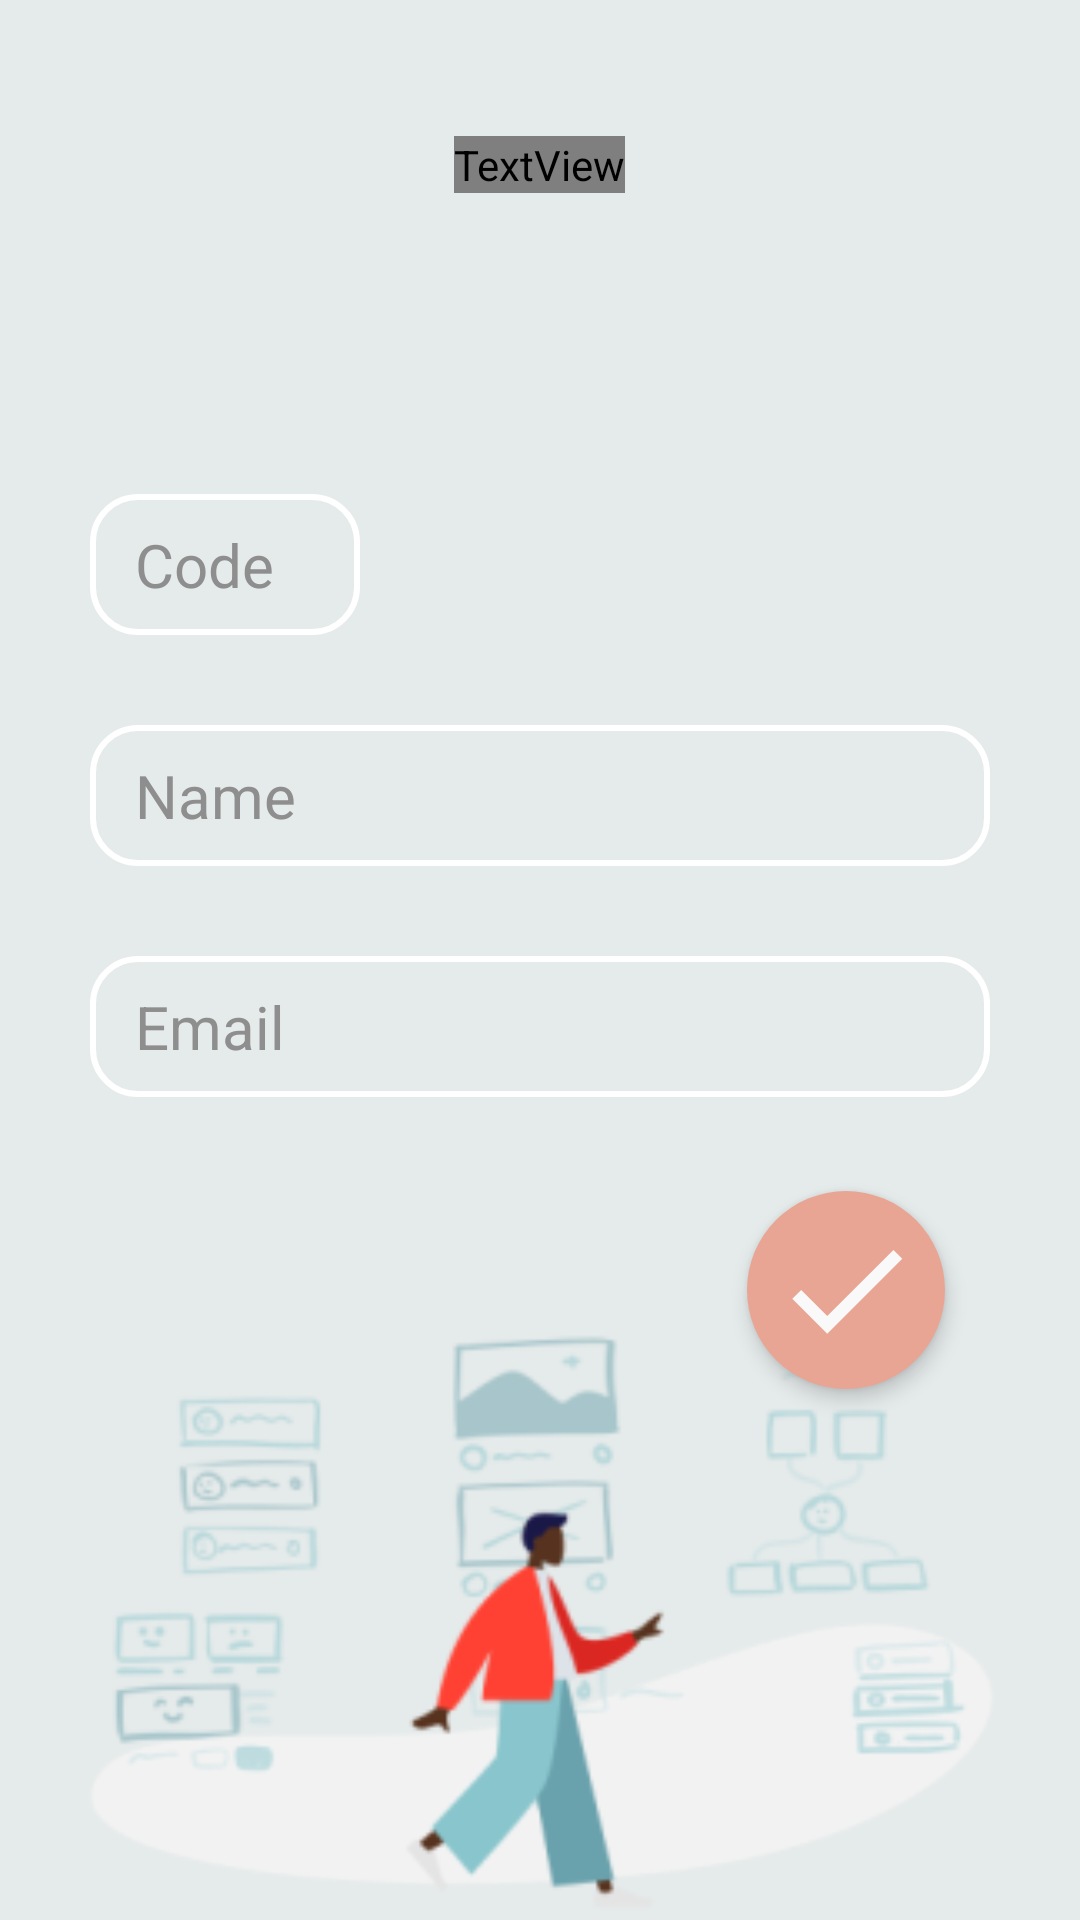

Icon click points for this 1080 x 1920 phone screenshot, format [x,y]:
check: [846,1290]
